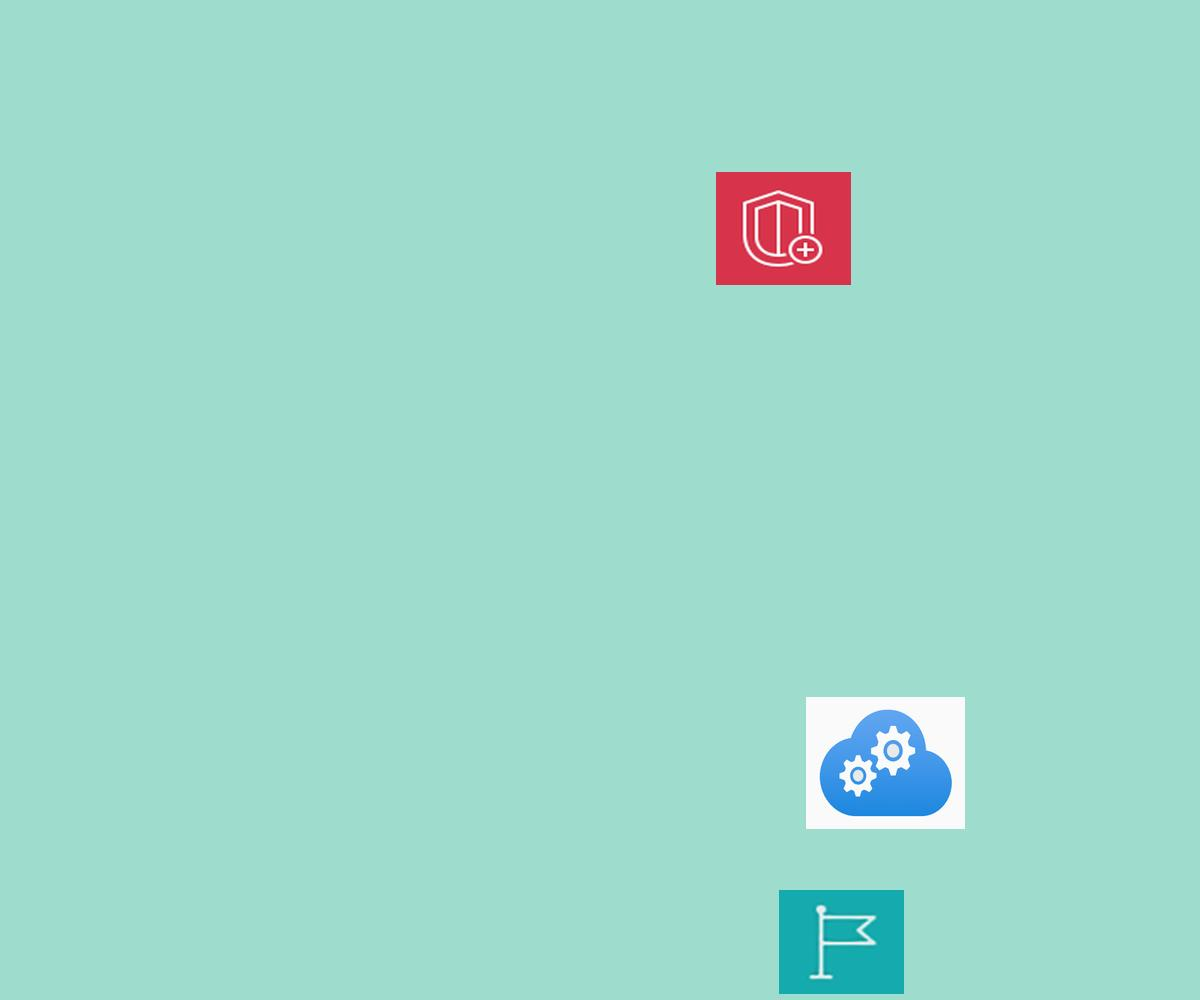AWS-Region: (779, 890, 904, 994)
AWS-Shield: (716, 172, 851, 285)
Azure_cloud_services: (806, 697, 965, 829)
